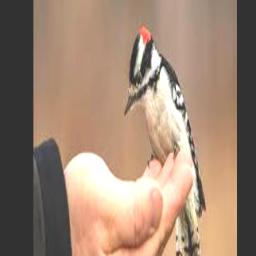Woodpecker: (124, 24, 206, 256)
